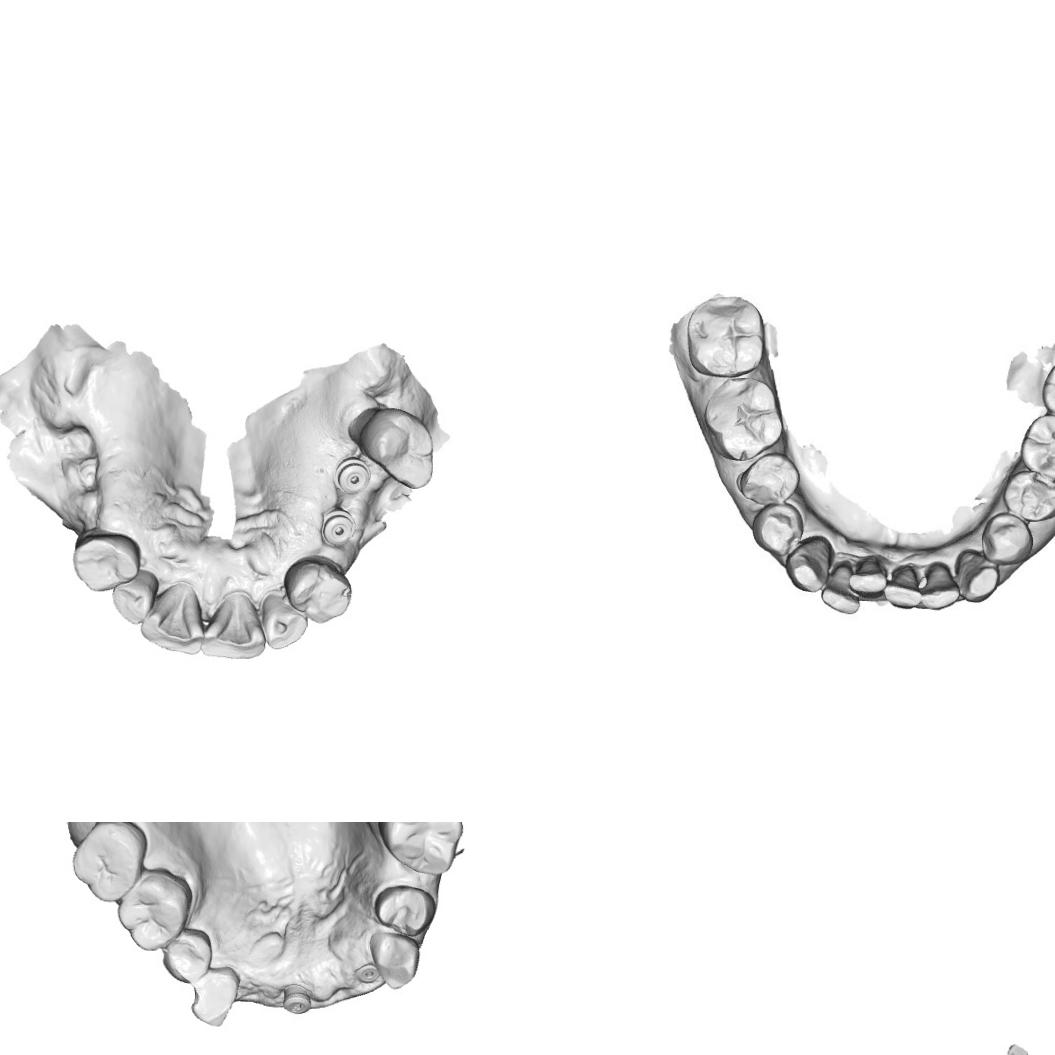canine: (188, 965, 242, 1029), (368, 929, 421, 990), (785, 535, 834, 594), (956, 548, 1001, 604)
implant: (332, 455, 372, 496), (320, 507, 357, 548), (281, 984, 315, 1017), (353, 960, 380, 986)
incisor: (138, 581, 208, 656), (196, 594, 266, 660), (260, 592, 310, 650), (111, 570, 164, 624), (820, 562, 860, 615), (920, 561, 960, 611), (882, 563, 922, 610), (848, 553, 888, 598)
molar: (346, 404, 436, 492), (702, 376, 785, 463), (685, 292, 766, 379), (114, 868, 193, 952), (68, 822, 147, 903), (375, 822, 466, 878), (1019, 413, 1055, 483), (1039, 357, 1055, 423)
premolar: (282, 556, 353, 626), (72, 531, 146, 592), (370, 881, 438, 938), (736, 450, 802, 506), (160, 927, 218, 986), (751, 500, 805, 557), (980, 511, 1034, 567), (1001, 469, 1055, 523)
